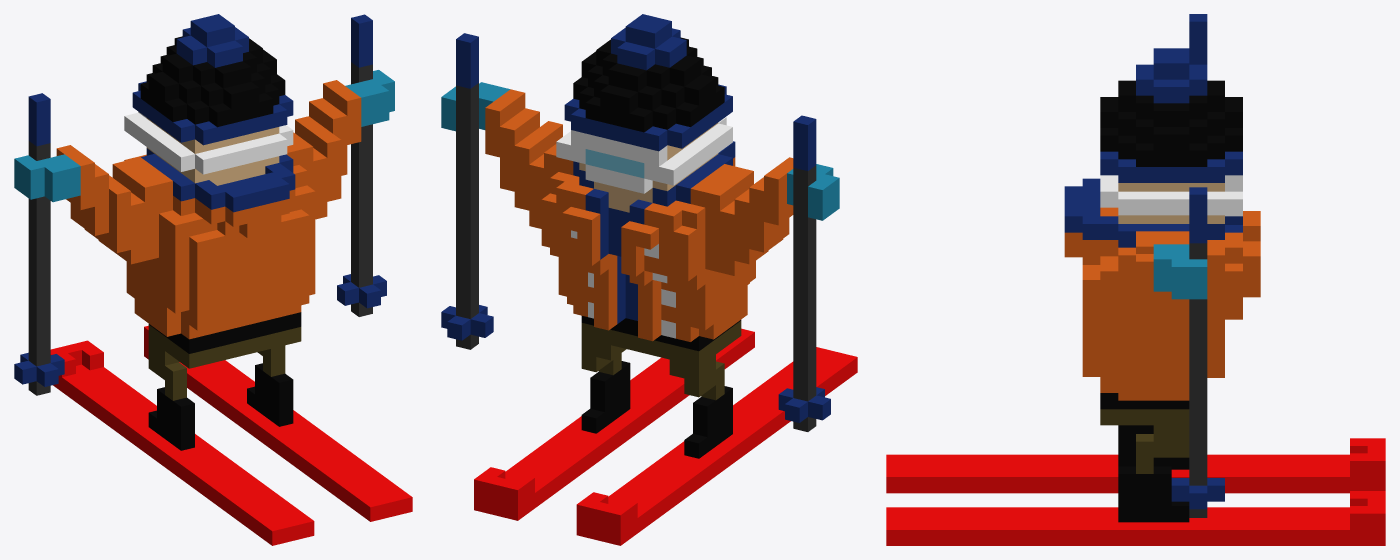
Rendered from Saut_3_Frame_02.obj.
3 views of the same model, side by side, from view 1: azimuth 30°, elevation 25°; view 2: azimuth 150°, elevation 25°; view 3: azimuth 270°, elevation 25° (orthographic). The views are drawn at different scales.
Size of the model in its own units: 26 by 28 by 28.
Materials: 1 (1 with a texture image).
